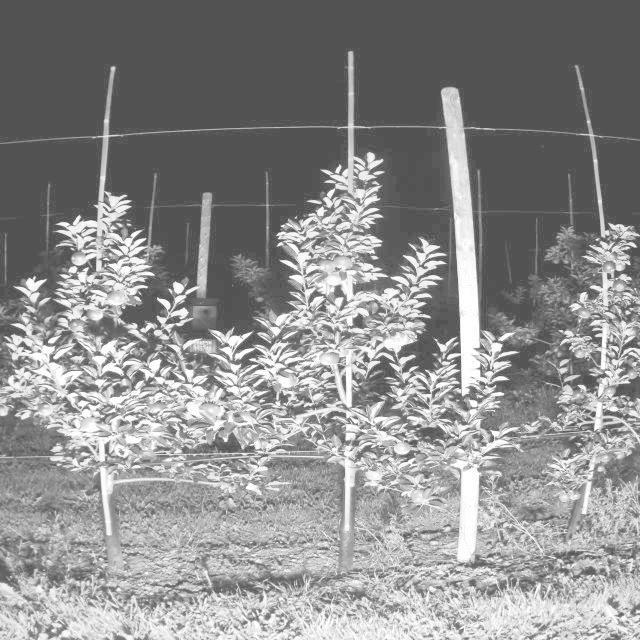Tree: (257, 156, 436, 576), (44, 195, 179, 573), (539, 219, 639, 537)
